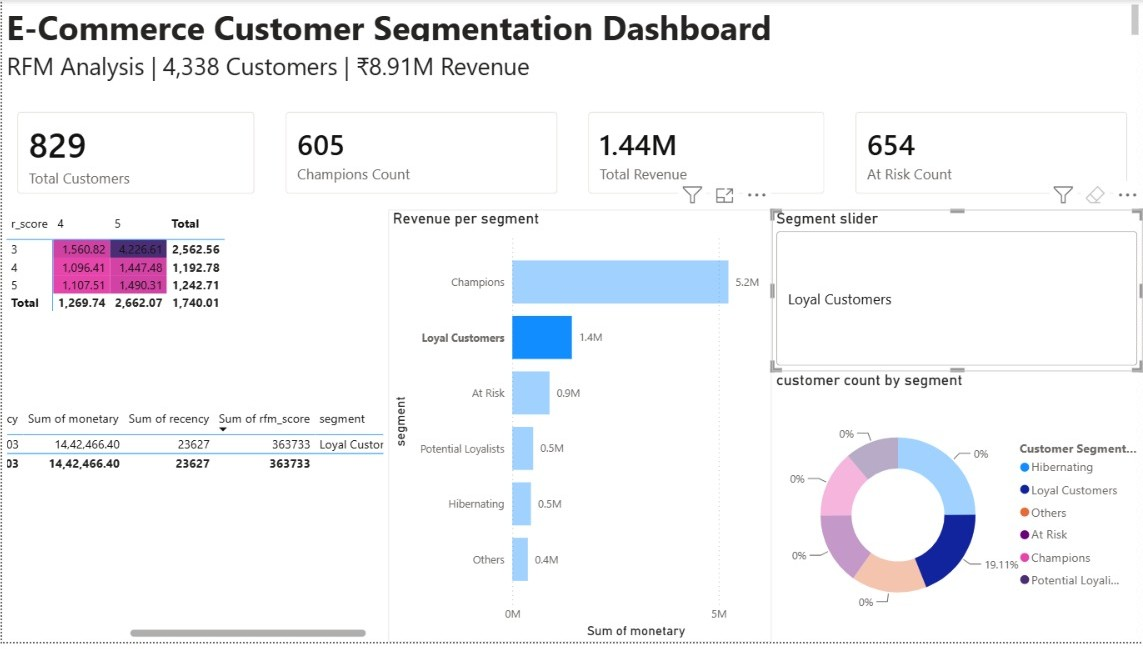

The dashboard page shown, as its layout file describes it:
{"tool":"powerbi","page":{"name":"Page 1","canvas":[1280,720],"ordinal":0},"visuals":[{"type":"cardVisual","fields":{"Data":["Count(powerbi_rfm.customerid)"]},"box":[0,108.2,300.9,126.8],"z":0},{"type":"cardVisual","fields":{"Data":["Sum(powerbi_rfm.monetary)"]},"box":[640.7,108.2,299.2,126.8],"z":1000},{"type":"cardVisual","fields":{"Data":["powerbi_rfm.Champions Count"]},"box":[300.9,108.2,339.8,126.8],"z":2000},{"type":"donutChart","title":"customer count by segment","fields":{"Category":["powerbi_rfm.segment"],"Y":["Count(powerbi_rfm.customerid)"]},"box":[863.9,415.9,415.9,304.3],"z":3000},{"type":"clusteredBarChart","title":"Revenue per segment","fields":{"Category":["powerbi_rfm.segment"],"Y":["Sum(powerbi_rfm.monetary)"]},"box":[432.8,235,431.1,485.2],"z":4000},{"type":"cardVisual","fields":{"Data":["powerbi_rfm.At Risk Count"]},"box":[939.9,108.2,339.8,126.8],"z":5000},{"type":"textbox","box":[0,0,1279.7,50.7],"z":6000},{"type":"textbox","box":[0,50.7,1279.7,57.5],"z":7000},{"type":"pivotTable","fields":{"Rows":["powerbi_rfm.r_score"],"Columns":["powerbi_rfm.f_score"],"Values":["Avg(powerbi_rfm.monetary)"]},"box":[0,235,432.8,219.8],"z":8000},{"type":"tableEx","fields":{"Values":["Sum(powerbi_rfm.customerid)","Sum(powerbi_rfm.frequency)","Sum(powerbi_rfm.monetary)","Sum(powerbi_rfm.recency)","Sum(powerbi_rfm.rfm_score)","powerbi_rfm.segment"]},"box":[0,454.8,432.8,265.4],"z":9000},{"type":"advancedSlicerVisual","title":"Segment slider","fields":{"Values":["powerbi_rfm.segment"]},"box":[863.9,235,415.9,180.9],"z":10000}]}

Visuals, with their boxes in screenshot pixels (x1, y1, x2, y2), scaled from the page's 1280x720 canvas onto the 1143x649 screenshot:
cardVisual - Count(powerbi_rfm.customerid): region(0, 98, 269, 212)
cardVisual - Sum(powerbi_rfm.monetary): region(572, 98, 839, 212)
cardVisual - powerbi_rfm.Champions Count: region(269, 98, 572, 212)
"customer count by segment" donutChart: region(771, 375, 1142, 648)
"Revenue per segment" clusteredBarChart: region(386, 212, 771, 648)
cardVisual - powerbi_rfm.At Risk Count: region(839, 98, 1142, 212)
textbox: region(0, 0, 1142, 46)
textbox: region(0, 46, 1142, 98)
pivotTable - powerbi_rfm.r_score x powerbi_rfm.f_score: region(0, 212, 386, 410)
tableEx - Sum(powerbi_rfm.customerid) x Sum(powerbi_rfm.frequency): region(0, 410, 386, 648)
"Segment slider" advancedSlicerVisual: region(771, 212, 1142, 375)
